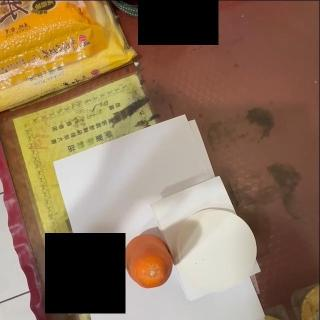carrot: (122, 232, 172, 288)
